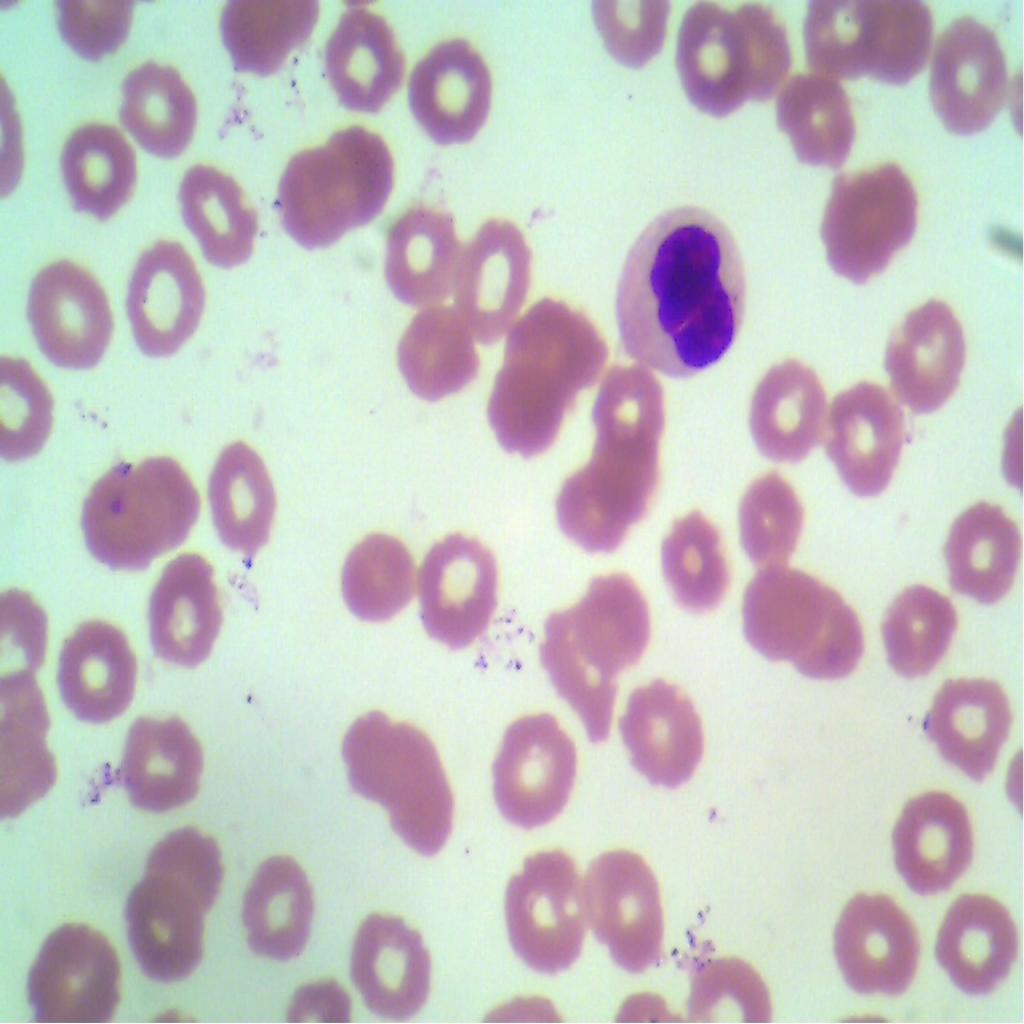Eritrosit: (479, 838, 594, 974), (918, 2, 1012, 148), (908, 657, 1018, 779), (418, 514, 506, 664), (813, 168, 921, 290), (876, 770, 975, 900), (921, 497, 1023, 621), (880, 288, 978, 412), (579, 838, 666, 977), (451, 208, 536, 343), (199, 438, 286, 568), (819, 891, 924, 998), (22, 255, 118, 371), (408, 24, 495, 150), (504, 295, 606, 402), (488, 708, 576, 831), (19, 917, 121, 1023), (110, 710, 206, 822), (51, 115, 146, 227), (616, 687, 709, 799), (934, 884, 1023, 1001), (236, 844, 322, 961), (351, 901, 433, 1023), (51, 628, 143, 734), (863, 580, 949, 688), (142, 558, 224, 671), (668, 2, 749, 115), (734, 555, 820, 661), (386, 745, 460, 867), (378, 198, 458, 310), (830, 379, 904, 500), (274, 144, 350, 261), (784, 586, 866, 694), (775, 67, 858, 172), (743, 355, 824, 462), (316, 118, 398, 222), (131, 241, 203, 358), (798, 0, 890, 91), (82, 462, 158, 571), (118, 59, 196, 164), (328, 15, 406, 120), (575, 574, 653, 678), (183, 167, 263, 268), (344, 696, 416, 808), (721, 0, 797, 103), (143, 831, 226, 925), (124, 884, 201, 985), (338, 528, 416, 627), (398, 304, 476, 402), (124, 450, 201, 547), (488, 362, 559, 467), (589, 358, 663, 452), (582, 426, 658, 517), (664, 511, 730, 615), (0, 352, 59, 468), (740, 478, 806, 565), (563, 464, 623, 558)
Neutrofil: (608, 200, 753, 376)
